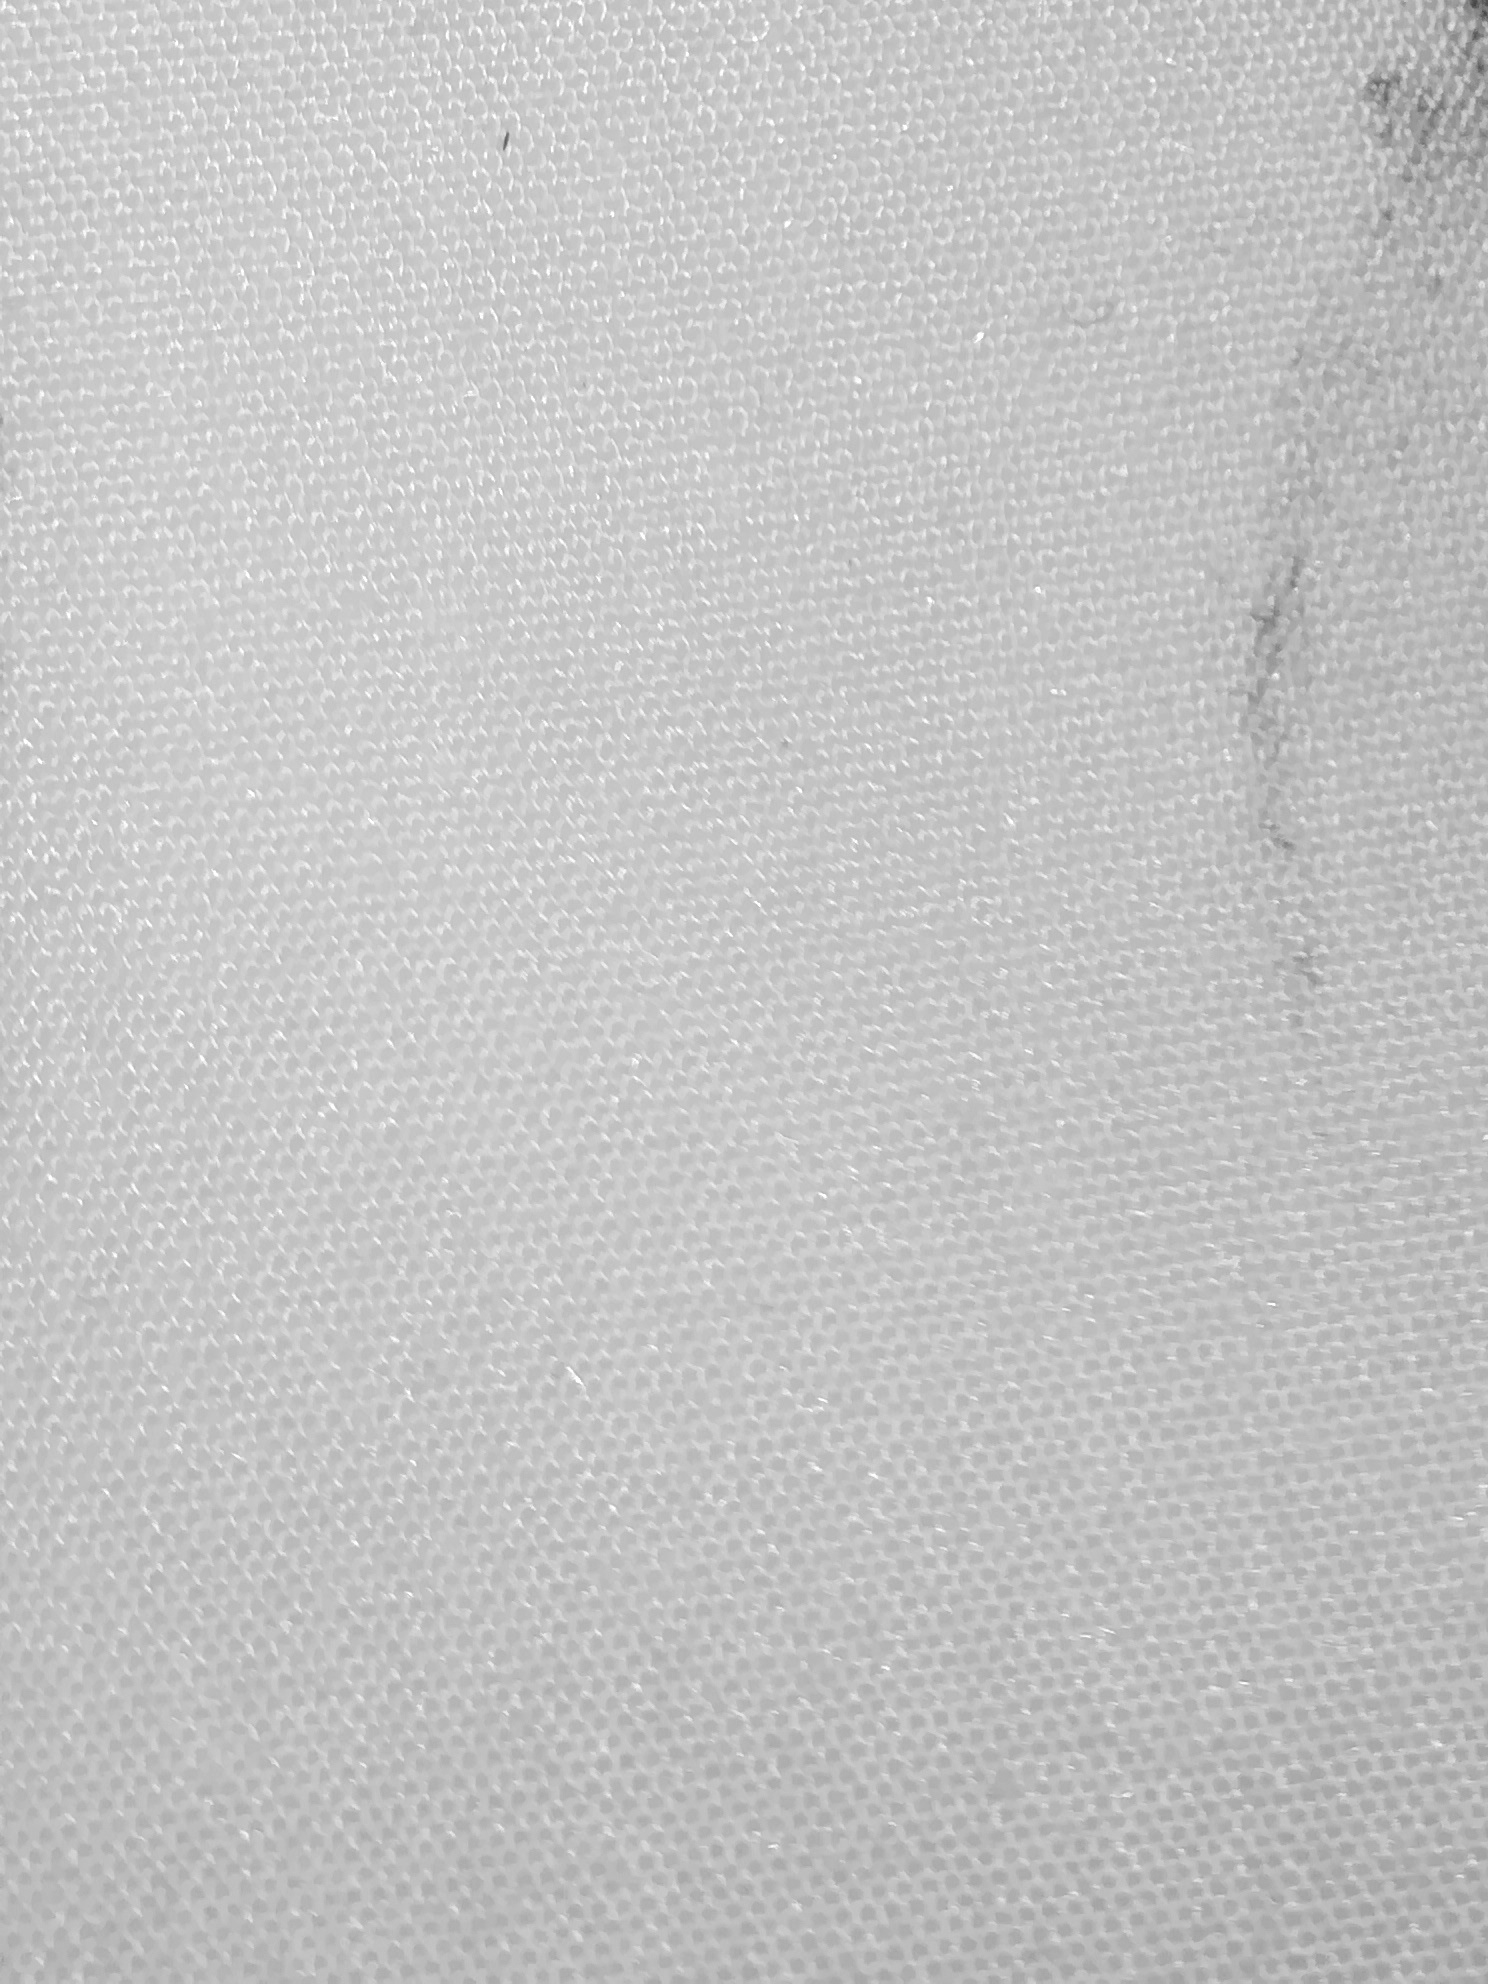Stain: (1078, 5, 1488, 1151)
